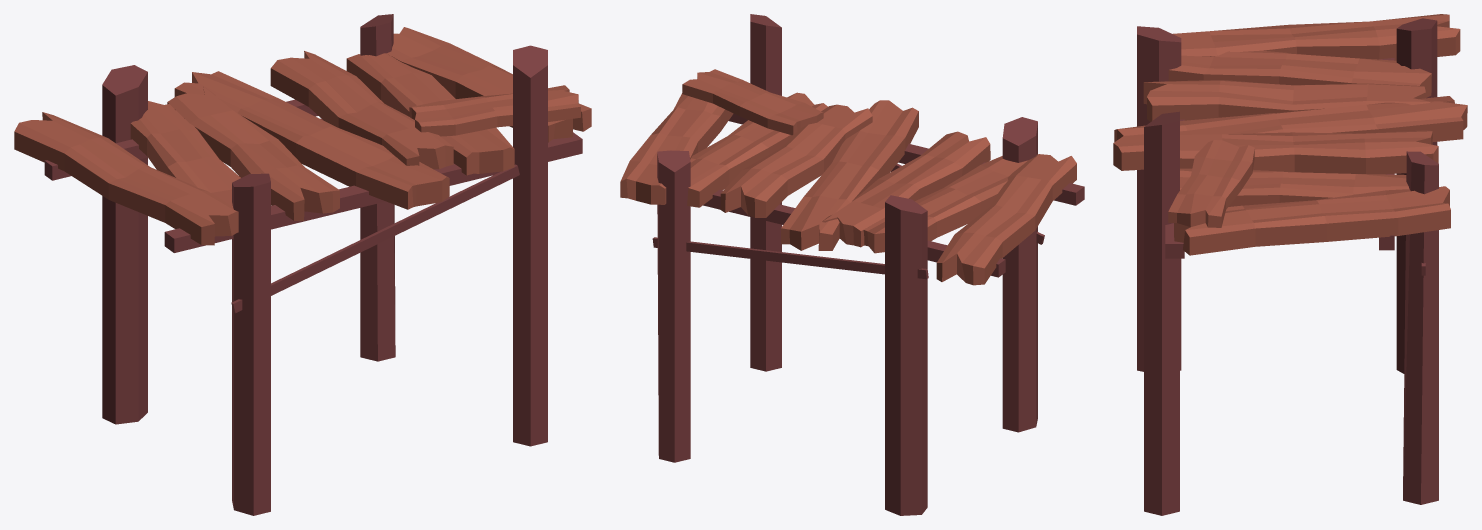
File: env_broken_pier.fbx
3 renders of one model, left to right at view 1: azimuth 30°, elevation 25°; view 2: azimuth 150°, elevation 25°; view 3: azimuth 270°, elevation 25°, orthographic. The views are drawn at different scales.
Visible parts, largest first — view 1: env_broken_pier; view 2: env_broken_pier; view 3: env_broken_pier.
Boxes of the visible parts, box(x1,y1,x2,y2) form: env_broken_pier: box(14, 14, 591, 515); env_broken_pier: box(620, 14, 1084, 515); env_broken_pier: box(1113, 14, 1467, 515).
Size of the model in its own units: 636 by 960 by 779.
